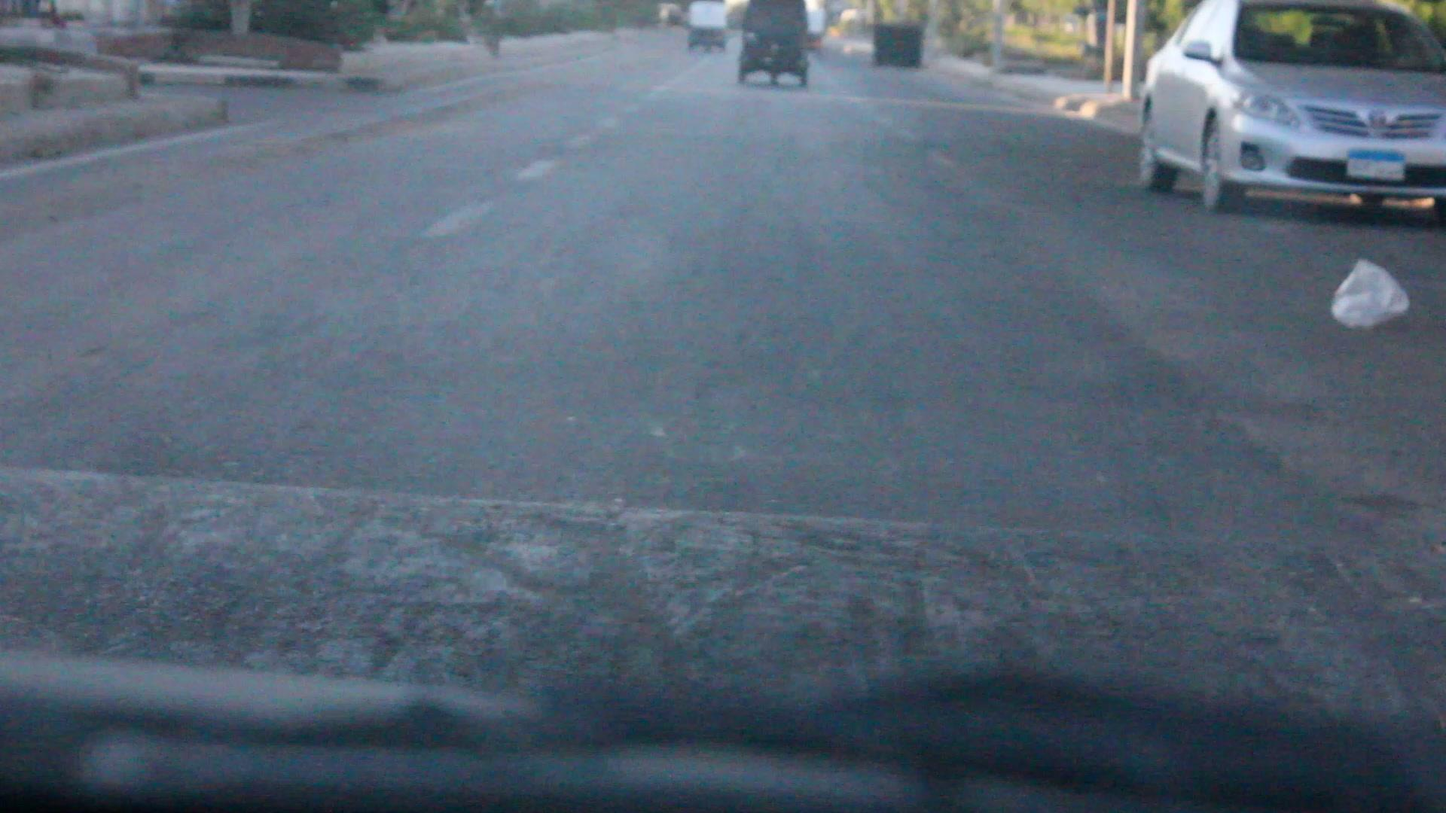Bump: (2, 463, 1446, 779)
